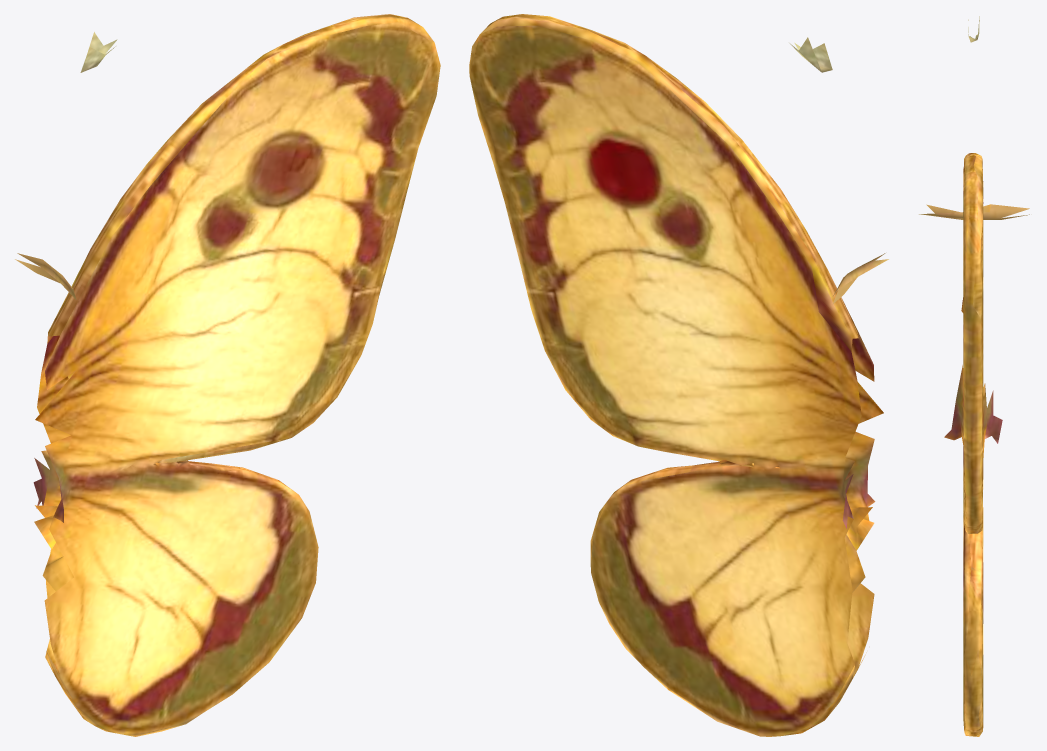
Rendered from wickling-right.glb.
3 views of the same model, side by side, from view 1: azimuth 30°, elevation 25°; view 2: azimuth 150°, elevation 25°; view 3: azimuth 270°, elevation 25° (orthographic). The views are drawn at different scales.
Visible parts, largest first — view 1: Mesh_0.001; view 2: Mesh_0.001; view 3: Mesh_0.001.
Part boxes in pixels (x1,y1,x2,y2): Mesh_0.001: [15, 14, 440, 736]; Mesh_0.001: [469, 14, 888, 736]; Mesh_0.001: [919, 16, 1029, 736].
Bounding box in the file's own units: 0.6079 × 1.01 × 0.1536.
1 material, 1 textured.
